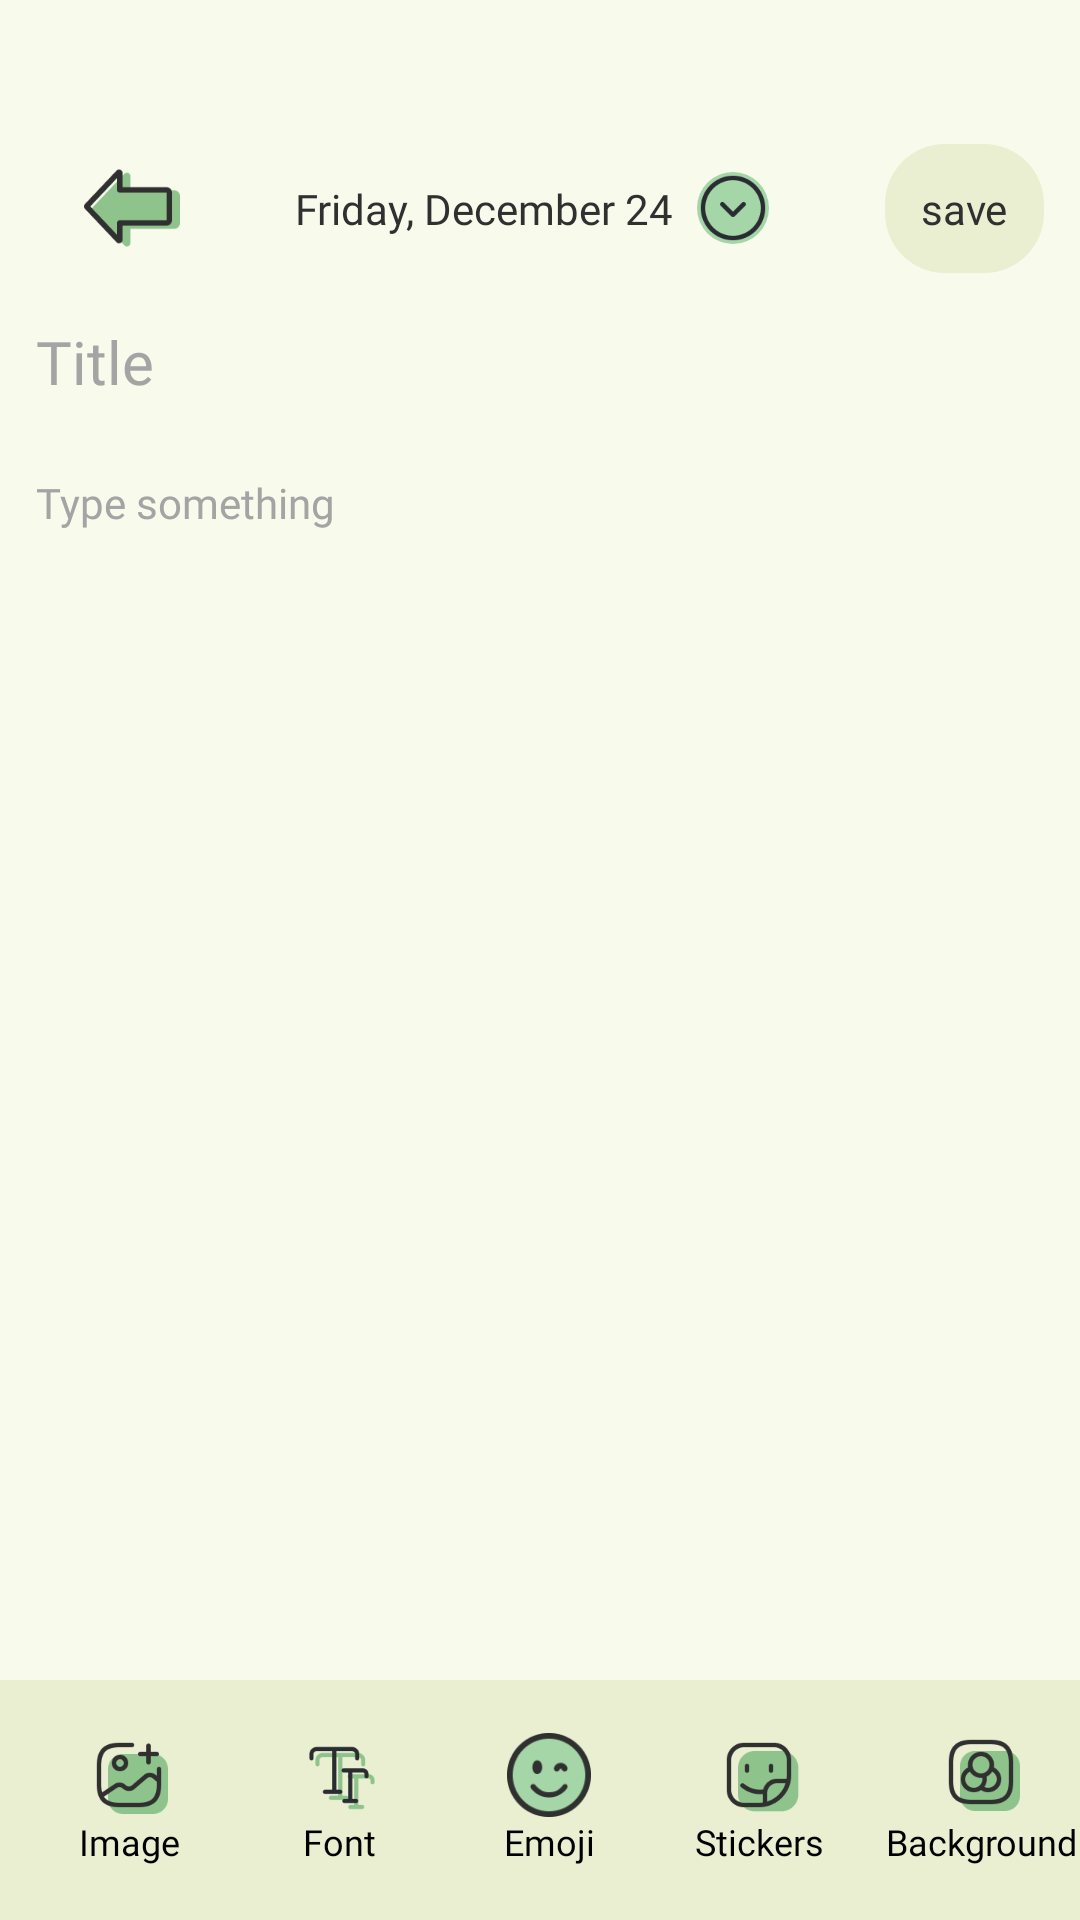

Locate icon controls on the screen. Image size 1080 x 1920, boxes as [left=x1, top=y1, right=x2, bottom=y2].
arrow circle down: [left=697, top=172, right=769, bottom=244]
backnewdiary: [left=84, top=169, right=180, bottom=247]
